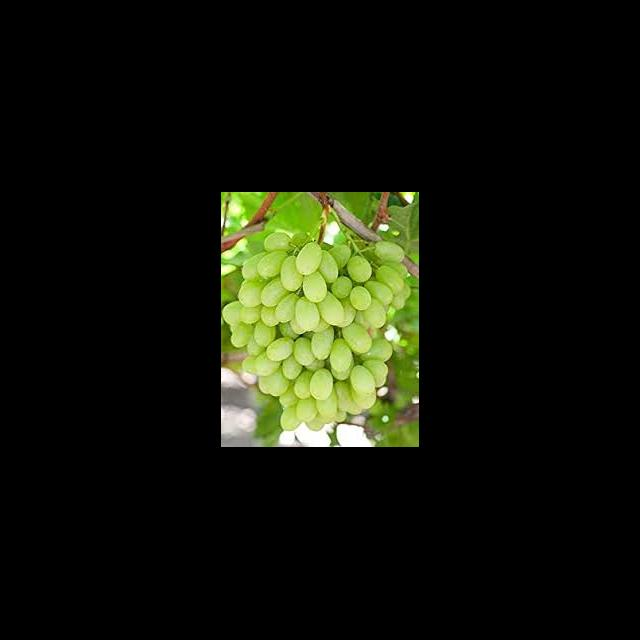grape: (221, 230, 411, 432)
